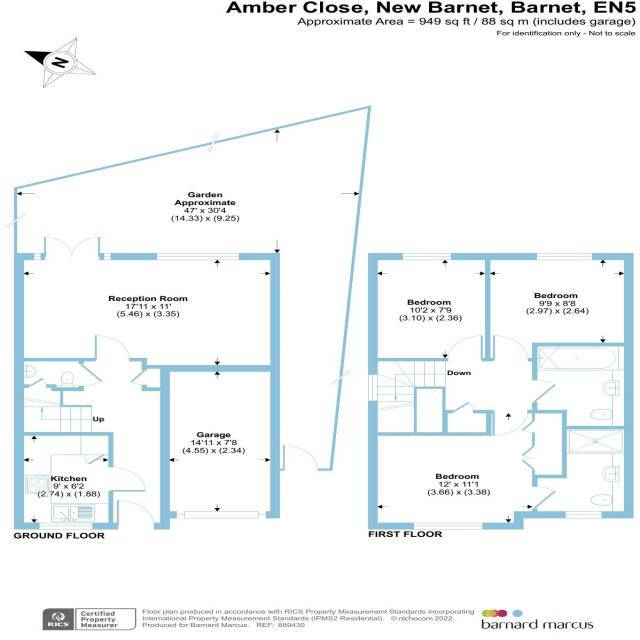DOOR: (281, 441, 326, 472), (116, 498, 155, 529), (93, 333, 133, 361), (491, 409, 531, 437), (445, 333, 484, 361), (492, 334, 531, 362), (108, 466, 148, 493), (532, 377, 563, 406), (79, 361, 106, 388), (532, 484, 559, 511)
DOUBLE DOOR: (38, 233, 105, 261)
ROOM: (13, 231, 279, 374), (368, 409, 567, 530), (485, 253, 634, 362), (14, 432, 151, 530), (368, 253, 491, 362)
WINDOW: (154, 251, 242, 261), (410, 520, 486, 531), (536, 251, 595, 261), (401, 251, 453, 262), (38, 521, 94, 530), (366, 372, 381, 403), (563, 509, 605, 520), (103, 252, 112, 261), (33, 252, 41, 261)
